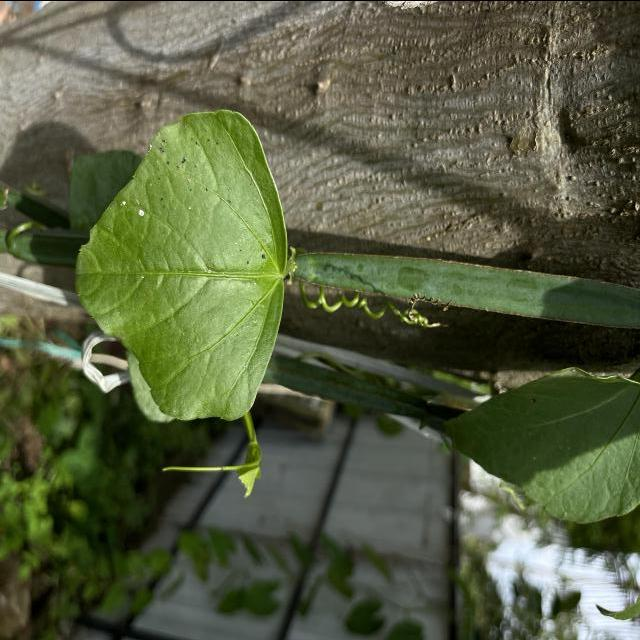Cissus quadrangularis: (73, 105, 290, 422)
